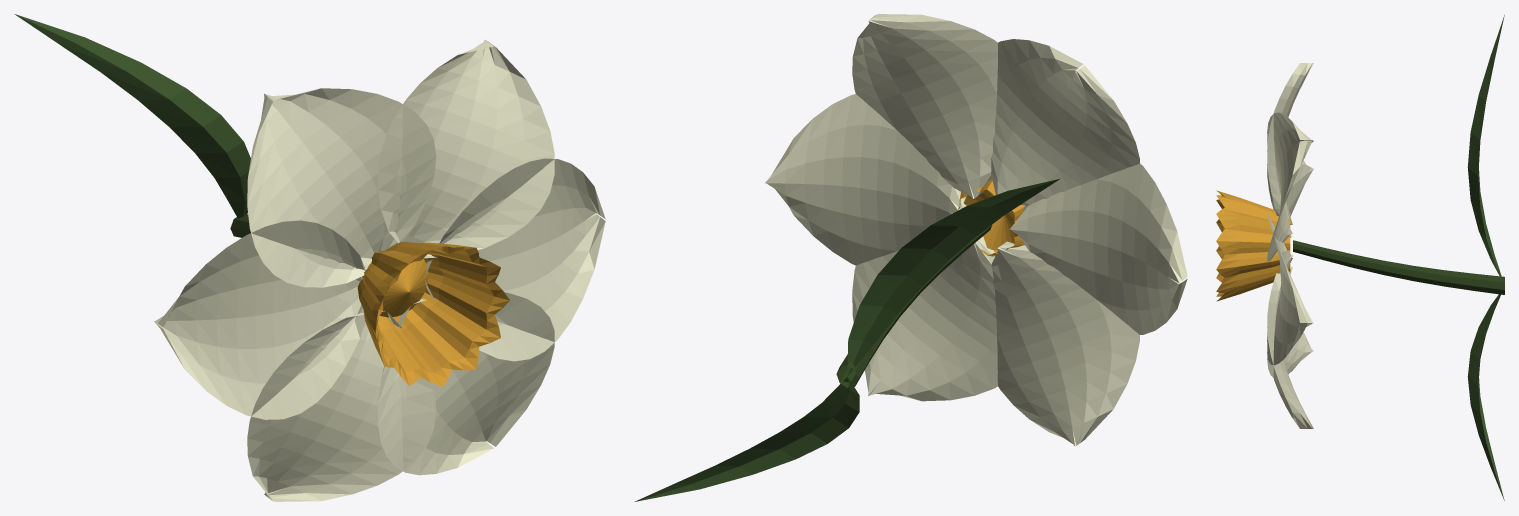
Rendered from Narcissus.obj.
3 renders of one model, left to right at view 1: azimuth 30°, elevation 25°; view 2: azimuth 150°, elevation 25°; view 3: azimuth 270°, elevation 25°, orthographic. The views are drawn at different scales.
Parts seen in each view (by area): view 1: part_2, part_3, part_1; view 2: part_2, part_1, part_3, part_0; view 3: part_2, part_3, part_1, part_0.
Boxes of the visible parts, x1,y1,x2,y2 form: part_2: (154,39,605,501); part_3: (357,241,509,387); part_1: (14,14,250,218); part_2: (765,14,1187,446); part_1: (634,178,1060,501); part_3: (958,179,1024,256); part_0: (836,225,992,388); part_2: (1267,63,1313,428); part_3: (1216,190,1290,301); part_1: (1467,15,1504,500); part_0: (1293,240,1504,294).
Bounding box in the file's own units: 2.14 × 2.05 × 1.64.
